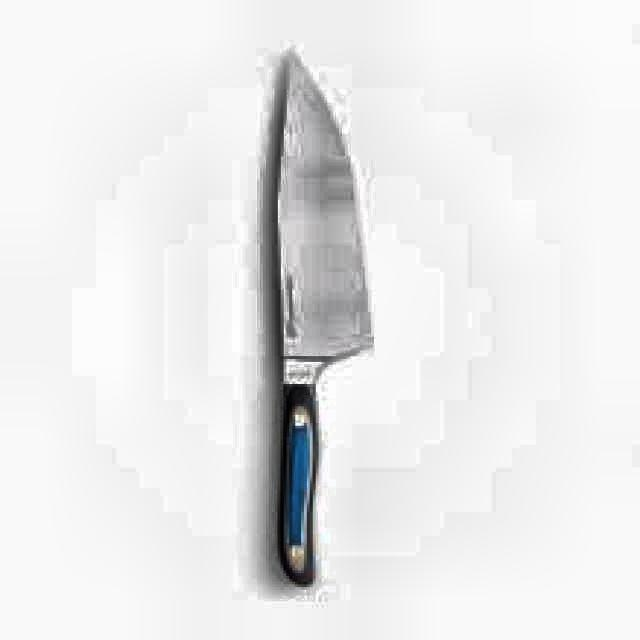knife: (259, 45, 379, 597)
